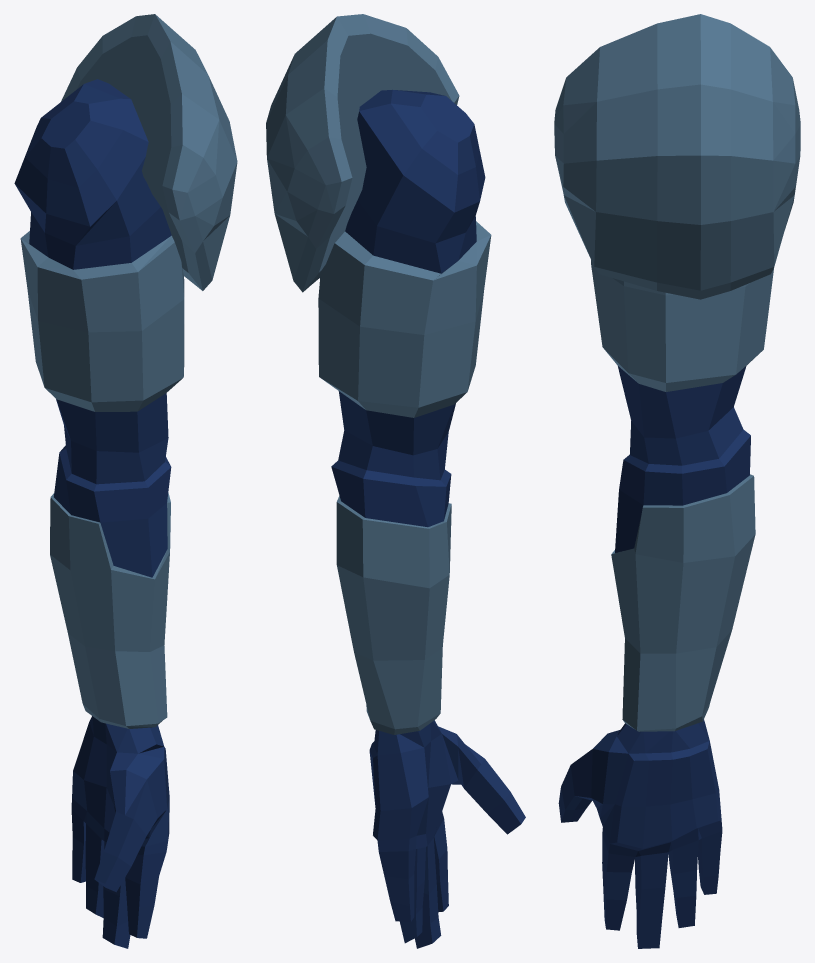
Rendered from right_arm.fbx.
3 views of the same model, side by side, from view 1: azimuth 30°, elevation 25°; view 2: azimuth 150°, elevation 25°; view 3: azimuth 270°, elevation 25° (orthographic). The views are drawn at different scales.
Parts seen in each view (by area): view 1: right_arm_upperarm; view 2: right_arm_upperarm; view 3: right_arm_upperarm.
Part boxes in pixels (left/top/right/bottom): right_arm_upperarm: left=14, top=14, right=237, bottom=948; right_arm_upperarm: left=266, top=14, right=525, bottom=948; right_arm_upperarm: left=554, top=14, right=800, bottom=948.
Size of the model in its own units: 0.1822 by 0.8223 by 0.1906.
